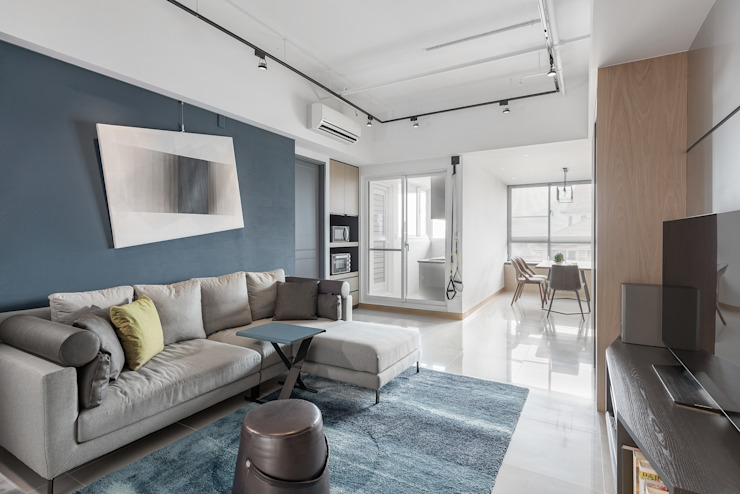sofa: (1, 272, 346, 491)
table: (238, 324, 327, 408), (538, 256, 594, 313)
tv: (657, 211, 740, 424)
